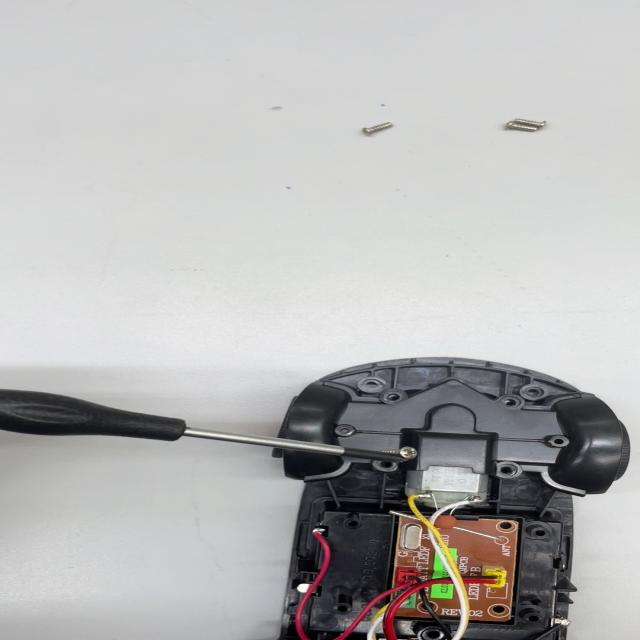screw: (351, 113, 408, 141), (493, 114, 554, 140)
screw_driver: (0, 371, 390, 476)
